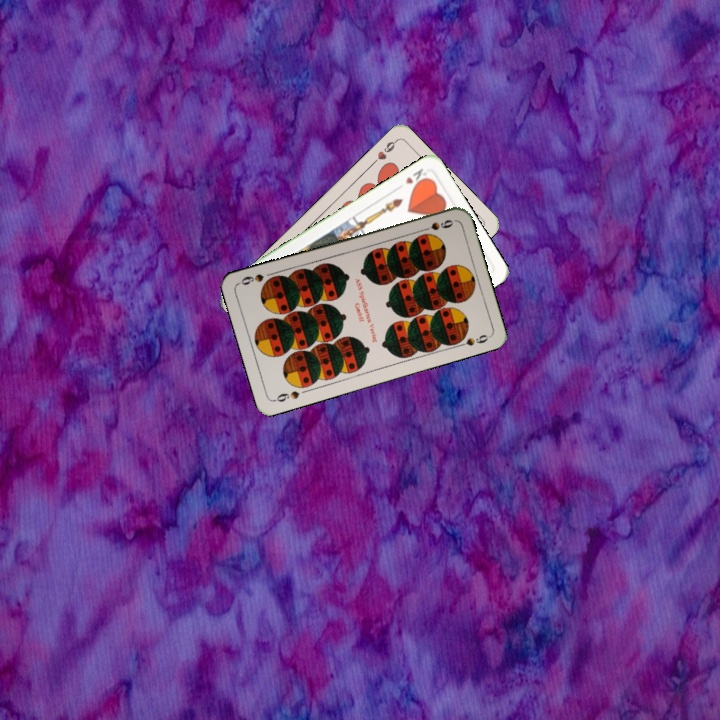H9: (367, 136, 400, 168)
HK: (401, 164, 431, 190)
S9: (416, 215, 456, 235), (270, 387, 302, 405)
